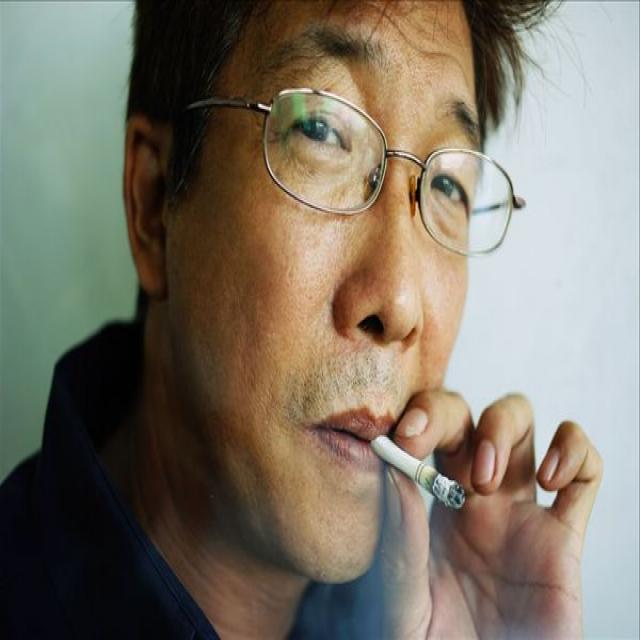smoking: (370, 431, 464, 507)
